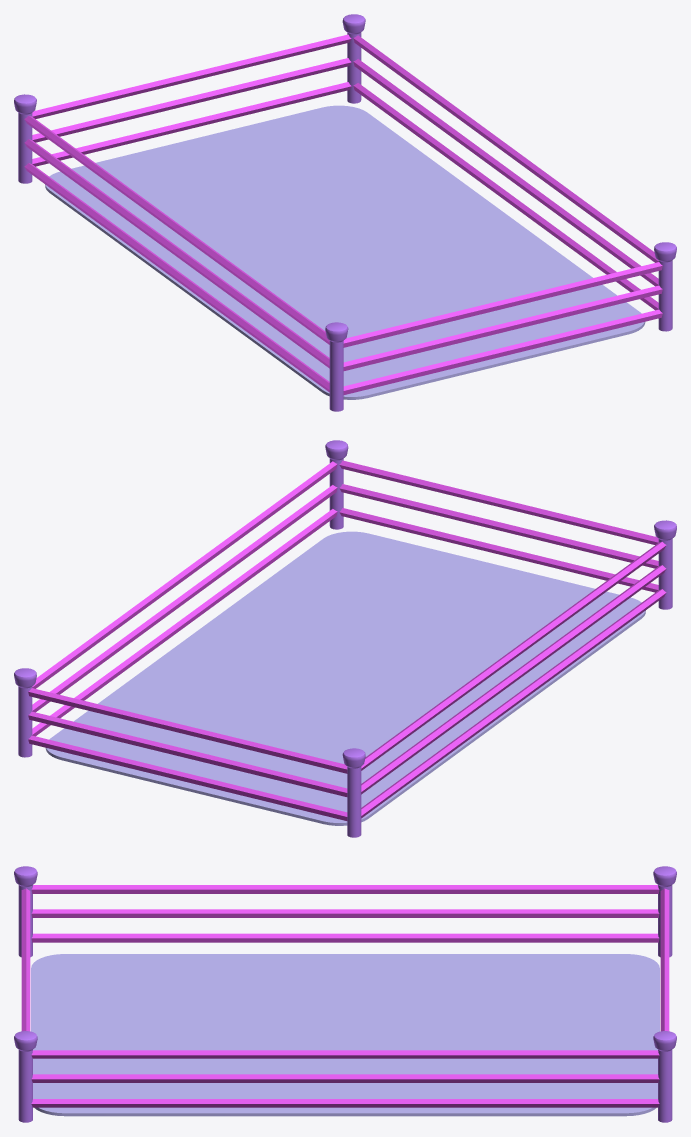
The model's file is Loca_1.fbx.
3 renders of one model, top to bottom at view 1: azimuth 30°, elevation 25°; view 2: azimuth 150°, elevation 25°; view 3: azimuth 270°, elevation 25°, orthographic. The views are drawn at different scales.
Visible parts, largest first — view 1: Loca_1; view 2: Loca_1; view 3: Loca_1.
Part boxes in pixels (<box>): Loca_1: <box>14,14,676,411</box>; Loca_1: <box>14,440,676,837</box>; Loca_1: <box>14,866,676,1122</box>.
Size of the model in its own units: 437 by 98.69 by 701.
